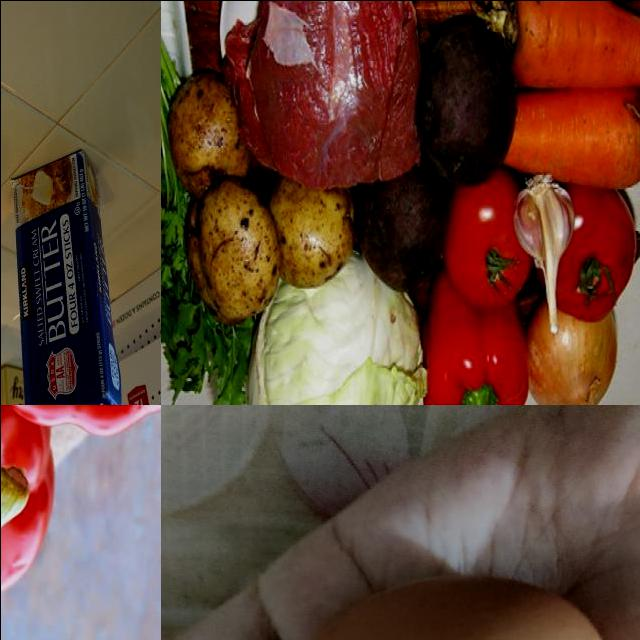beet: (417, 10, 516, 199), (356, 139, 446, 303)
bell_pepper: (425, 270, 520, 405), (1, 405, 57, 619)
cabbage: (248, 255, 418, 405)
carrot: (483, 76, 640, 195), (484, 1, 640, 106)
egg: (270, 577, 615, 640)
garlic: (511, 177, 574, 334)
onion: (530, 297, 617, 405)
potato: (183, 190, 276, 326), (168, 80, 247, 216), (269, 169, 352, 294)
tomato: (557, 190, 640, 340), (448, 177, 530, 305)
